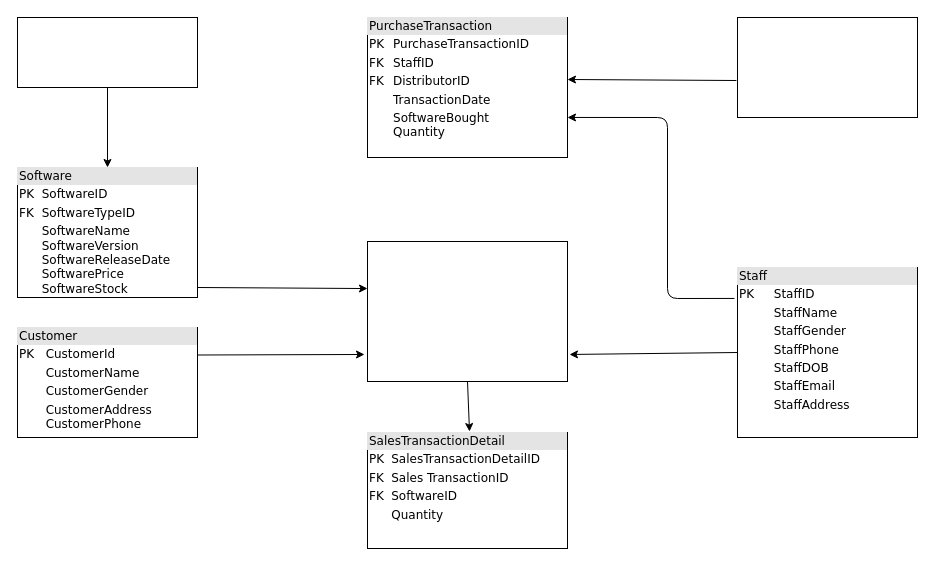
Some shapes in this 935 by 566 pixel diagram are drawn without their labels. Each missing label, with the centre of its shape:
"Distributor PK DistributorID DistributorName DistributorCompany" belongs at pixel 827 67.
"SalesTransaction PK SalesTransactionID FK StaffID FK CustomerID TransactionDate" belongs at pixel 467 311.
"SoftwareType PK SoftwareTypeID SoftwareTypeName" belongs at pixel 107 52.
